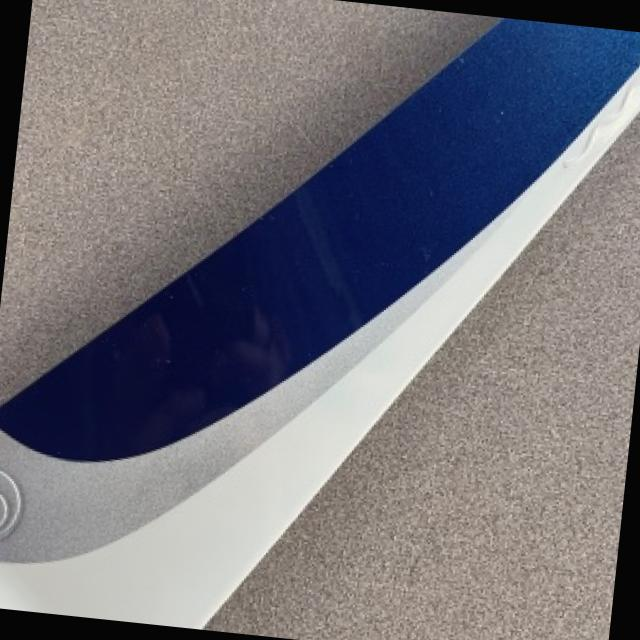healthy: (0, 18, 640, 627)
